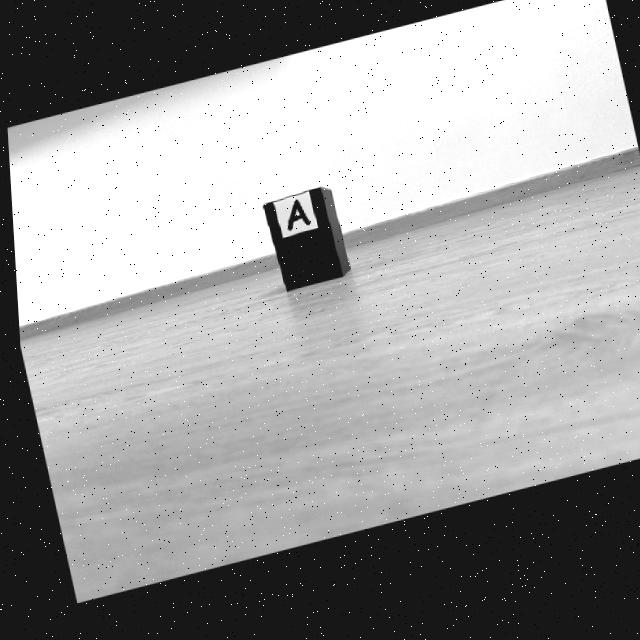A: (285, 206, 307, 237)
